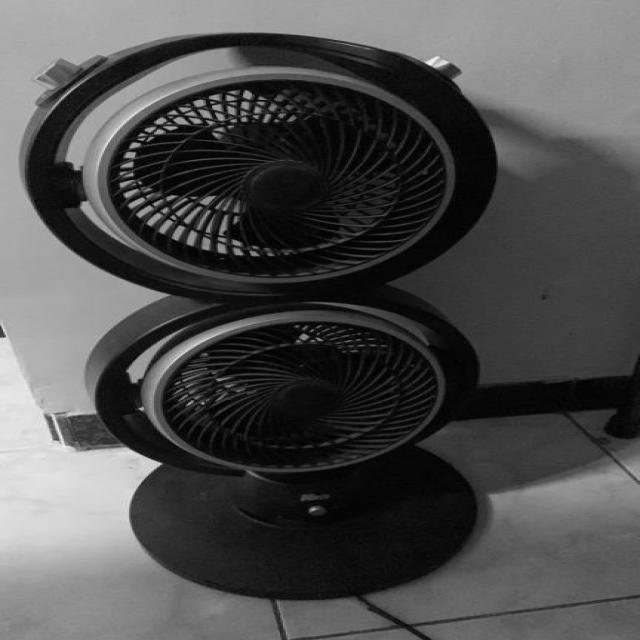fan: (32, 33, 505, 298), (30, 298, 538, 506)
